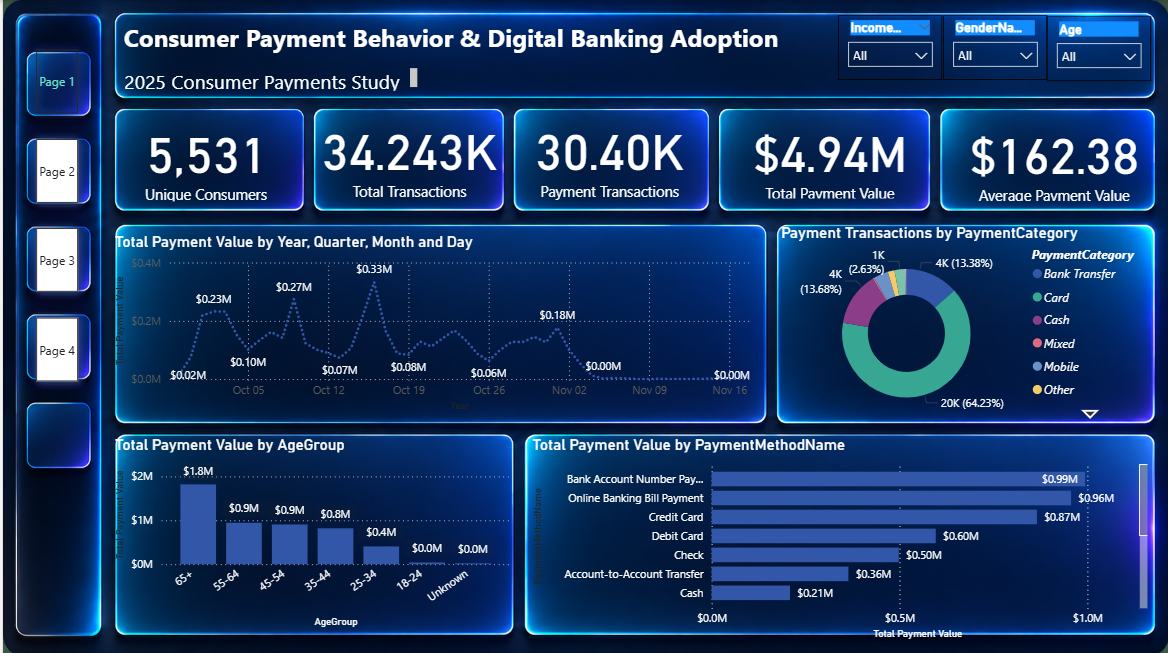

Layout of this report page (visuals, bound fields, positions):
{"tool":"powerbi","page":{"name":"Page 1","canvas":[1280,720],"ordinal":0},"visuals":[{"type":"card","fields":{"Values":["_Measures.Unique Consumers"]},"box":[128,123.6,190.6,102.7],"z":0},{"type":"card","fields":{"Values":["_Measures.Total Transactions"]},"box":[342.4,119.1,206.9,104.2],"z":1000},{"type":"card","fields":{"Values":["_Measures.Payment Transactions"]},"box":[561.2,116.1,209.9,110.2],"z":2000},{"type":"card","fields":{"Values":["_Measures.Total Payment Value"]},"box":[808.4,123.6,199.5,99.7],"z":3000},{"type":"card","fields":{"Values":["_Measures.Average Payment Value"]},"box":[1046.6,126.5,214.4,99.7],"z":4000},{"type":"lineChart","fields":{"Y":["_Measures.Total Payment Value"],"Category":["analytics DimDate.FullDate.Variation.Date Hierarchy.Year","analytics DimDate.FullDate.Variation.Date Hierarchy.Quarter","analytics DimDate.FullDate.Variation.Date Hierarchy.Month","analytics DimDate.FullDate.Variation.Date Hierarchy.Day"]},"box":[117.6,254.6,716.1,201],"z":5000},{"type":"clusteredBarChart","fields":{"Category":["analytics DimPaymentMethod.PaymentMethodName"],"Y":["_Measures.Total Payment Value"]},"box":[576.1,477.9,684.8,229.3],"z":6000},{"type":"donutChart","fields":{"Series":["analytics DimPaymentMethod.PaymentCategory"],"Y":["_Measures.Payment Transactions"]},"box":[850.1,245.6,410.9,221.8],"z":7000},{"type":"columnChart","fields":{"Category":["analytics DimConsumer.AgeGroup"],"Y":["_Measures.Total Payment Value"]},"box":[117.6,477.9,443.6,215.9],"z":8000},{"type":"textbox","box":[128,17.9,742.9,52.1],"z":9000},{"type":"textbox","box":[128,70,332,34.2],"z":10000},{"type":"slicer","fields":{"Values":["analytics DimConsumer.Age"]},"box":[1146.3,17.9,114.6,71.5],"z":11000},{"type":"slicer","fields":{"Values":["analytics DimConsumer.GenderName"]},"box":[1031.7,16.4,114.6,71.5],"z":12000},{"type":"slicer","fields":{"Values":["analytics DimConsumer.IncomeBand"]},"box":[917.1,16.4,114.6,71.5],"z":13000},{"type":"pageNavigator","box":[26.8,44.7,64,384.1],"z":13001}]}

Visuals, with their boxes in screenshot pixels (x1, y1, x2, y2), scaled from the page's 1280x720 canvas onto the 1168x653 screenshot:
card - _Measures.Unique Consumers: [x1=117, y1=112, x2=291, y2=205]
card - _Measures.Total Transactions: [x1=312, y1=108, x2=501, y2=203]
card - _Measures.Payment Transactions: [x1=512, y1=105, x2=704, y2=205]
card - _Measures.Total Payment Value: [x1=738, y1=112, x2=920, y2=203]
card - _Measures.Average Payment Value: [x1=955, y1=115, x2=1151, y2=205]
lineChart - _Measures.Total Payment Value x analytics DimDate.FullDate.Variation.Date Hierarchy.Year: [x1=107, y1=231, x2=761, y2=413]
clusteredBarChart - analytics DimPaymentMethod.PaymentMethodName x _Measures.Total Payment Value: [x1=526, y1=433, x2=1151, y2=641]
donutChart - analytics DimPaymentMethod.PaymentCategory x _Measures.Payment Transactions: [x1=776, y1=223, x2=1151, y2=424]
columnChart - analytics DimConsumer.AgeGroup x _Measures.Total Payment Value: [x1=107, y1=433, x2=512, y2=629]
textbox: [x1=117, y1=16, x2=795, y2=63]
textbox: [x1=117, y1=63, x2=420, y2=95]
slicer - analytics DimConsumer.Age: [x1=1046, y1=16, x2=1151, y2=81]
slicer - analytics DimConsumer.GenderName: [x1=941, y1=15, x2=1046, y2=80]
slicer - analytics DimConsumer.IncomeBand: [x1=837, y1=15, x2=941, y2=80]
pageNavigator: [x1=24, y1=41, x2=83, y2=389]
